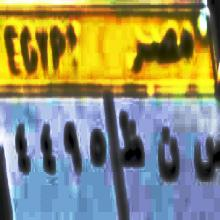4: (37, 118, 56, 175), (15, 116, 30, 178)
5: (89, 119, 108, 173)
9: (63, 116, 83, 181)
Thaa: (117, 107, 146, 174)
noon: (157, 125, 182, 183)
seen: (191, 124, 220, 181)
